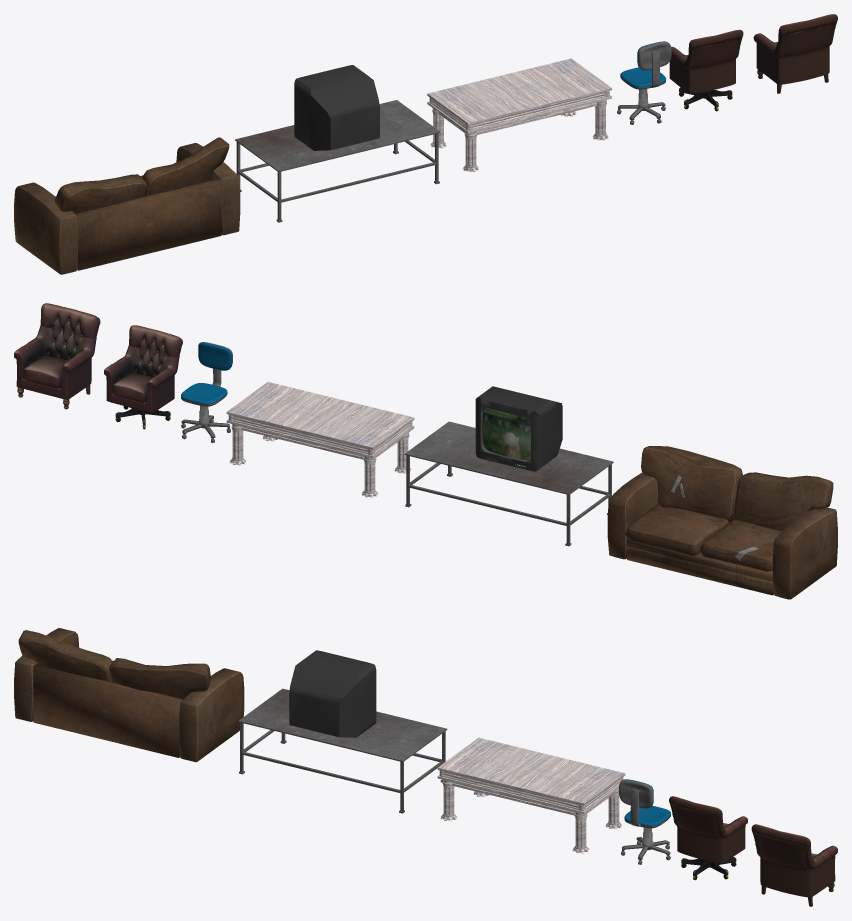
Rendered from furniture_pack.glb.
3 views of the same model, one above another, from view 1: azimuth 30°, elevation 25°; view 2: azimuth 150°, elevation 25°; view 3: azimuth 330°, elevation 25° (orthographic).
Visible parts, largest first — view 1: Object_14, Object_11, Object_9, Object_12, Object_6, Object_10, Object_16, Object_15, Object_7; view 2: Object_14, Object_11, Object_9, Object_6, Object_10, Object_12, Object_8, Object_15, Object_16; view 3: Object_14, Object_11, Object_12, Object_9, Object_6, Object_10, Object_16, Object_15, Object_7.
Boxes of the visible parts, bbox=[...] form: Object_14: bbox=[14, 137, 240, 274]; Object_11: bbox=[427, 58, 611, 172]; Object_9: bbox=[235, 100, 440, 222]; Object_12: bbox=[294, 65, 379, 150]; Object_6: bbox=[753, 14, 837, 93]; Object_10: bbox=[669, 29, 743, 93]; Object_16: bbox=[617, 41, 671, 124]; Object_15: bbox=[620, 41, 666, 87]; Object_7: bbox=[679, 87, 732, 111]; Object_14: bbox=[607, 446, 837, 599]; Object_11: bbox=[226, 382, 414, 497]; Object_9: bbox=[404, 421, 613, 546]; Object_6: bbox=[14, 303, 100, 409]; Object_10: bbox=[104, 325, 182, 413]; Object_12: bbox=[475, 386, 562, 471]; Object_8: bbox=[482, 407, 531, 460]; Object_15: bbox=[181, 342, 232, 404]; Object_16: bbox=[181, 342, 232, 442]; Object_14: bbox=[14, 628, 244, 762]; Object_11: bbox=[437, 737, 625, 853]; Object_12: bbox=[289, 650, 376, 737]; Object_9: bbox=[238, 688, 447, 813]; Object_6: bbox=[751, 824, 837, 906]; Object_10: bbox=[669, 796, 747, 863]; Object_16: bbox=[619, 779, 670, 864]; Object_15: bbox=[623, 779, 670, 826]; Object_7: bbox=[681, 857, 736, 880].
Bounding box in the file's own units: 55.04 × 7.49 × 6.26.
18 materials, 8 textured.
